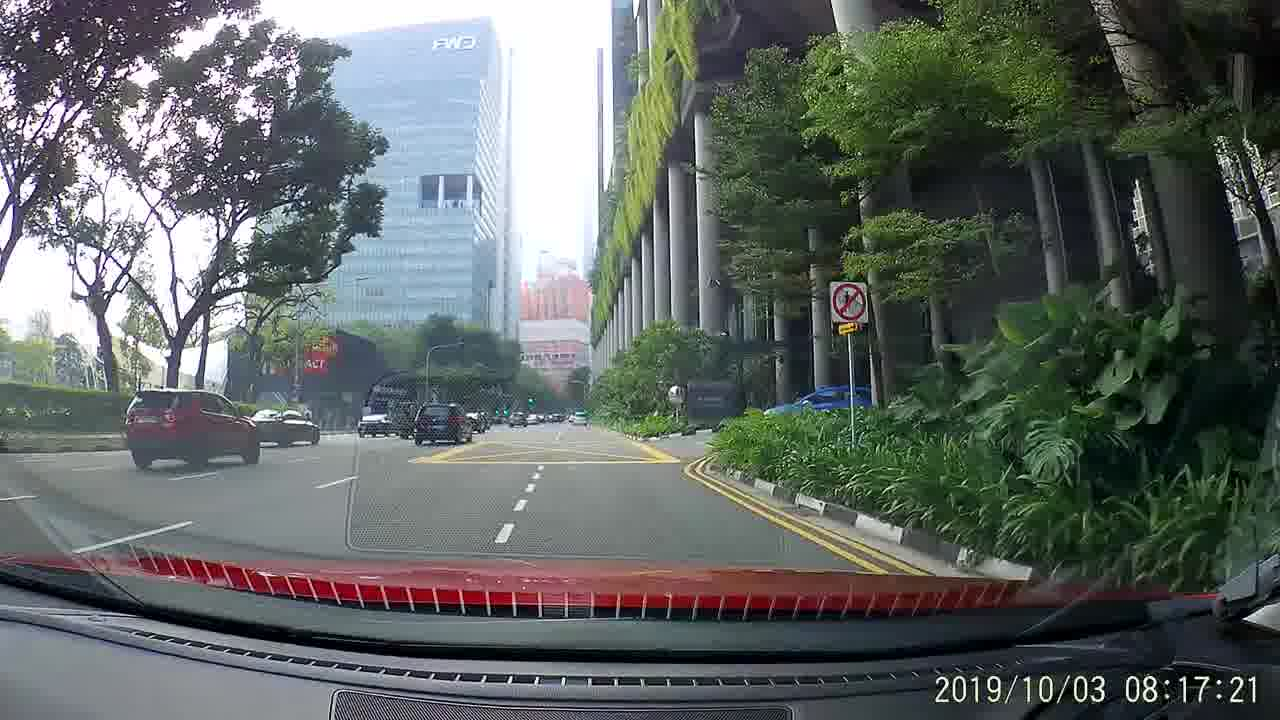car: (124, 377, 262, 472), (761, 376, 878, 436), (245, 405, 327, 447), (412, 401, 476, 448), (354, 412, 391, 437), (508, 408, 529, 427), (567, 409, 589, 426)
